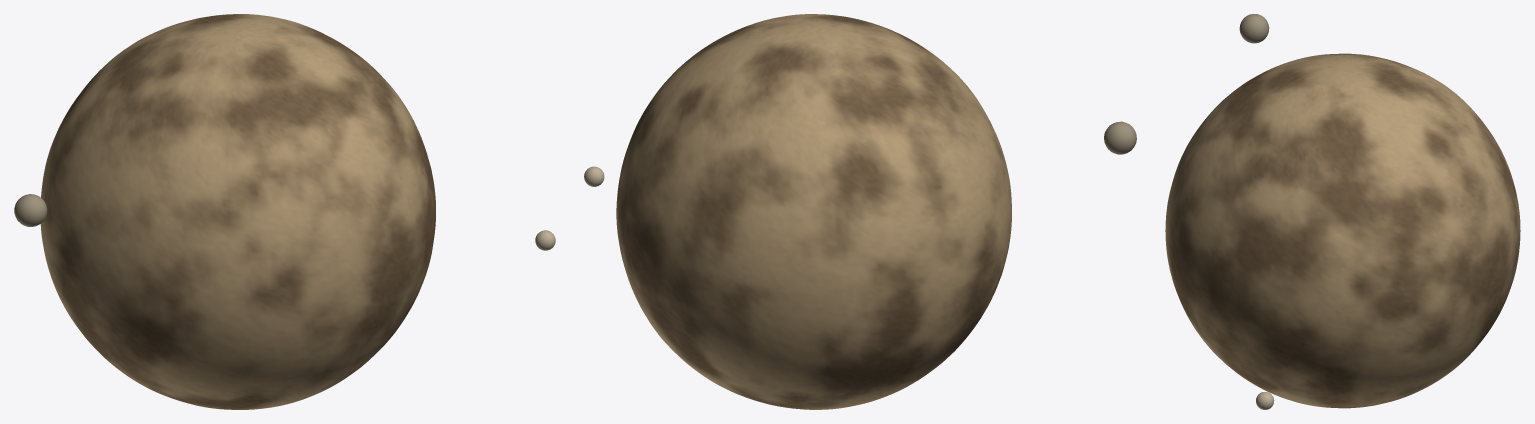
File: arrakis-planet.glb
3 views of the same model, side by side, from view 1: azimuth 30°, elevation 25°; view 2: azimuth 150°, elevation 25°; view 3: azimuth 270°, elevation 25° (orthographic). The views are drawn at different scales.
Visible parts, largest first — view 1: Arrakis planetary surface, First moon; view 2: Arrakis planetary surface, First moon; view 3: Arrakis planetary surface, First moon.
Part boxes in pixels (x1,y1,x2,y2): Arrakis planetary surface: (40, 14, 435, 409); First moon: (14, 194, 47, 226); Arrakis planetary surface: (616, 14, 1011, 409); First moon: (1104, 121, 1136, 154); Arrakis planetary surface: (1165, 53, 1520, 408); First moon: (1239, 14, 1269, 43).
Bounding box in the file's own units: 159 × 100 × 100.
